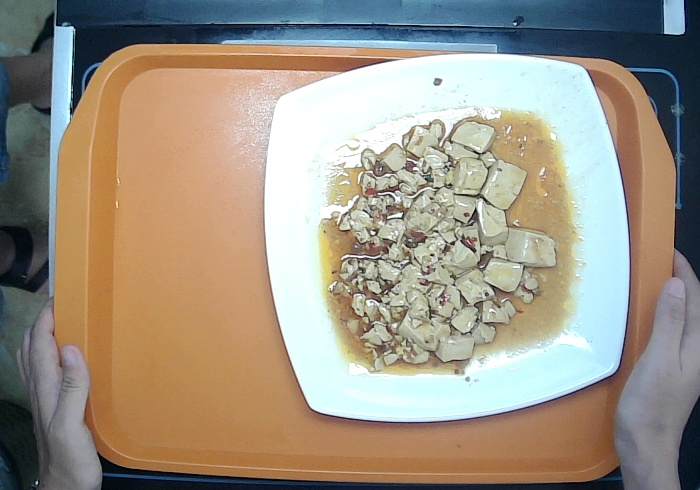ZNLD-Bai_Fang_Pan: (263, 52, 632, 426)
